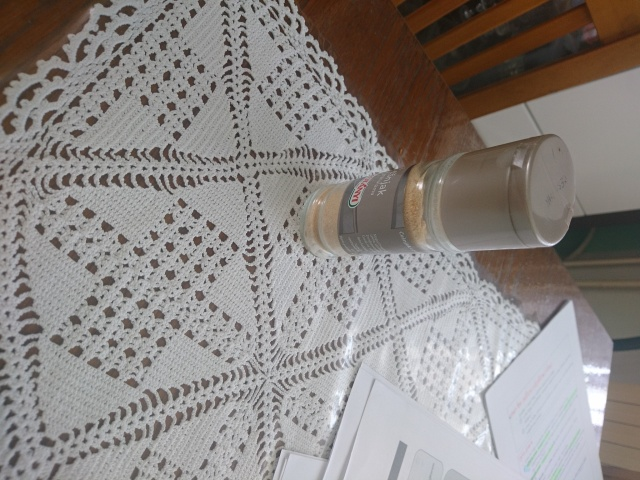Kotanyi Garlic Granules 70g: (297, 130, 580, 262)
